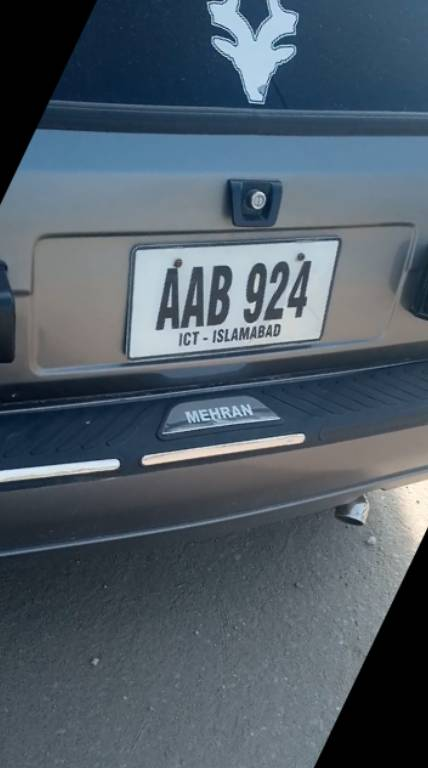number_plate: (119, 244, 335, 354)
